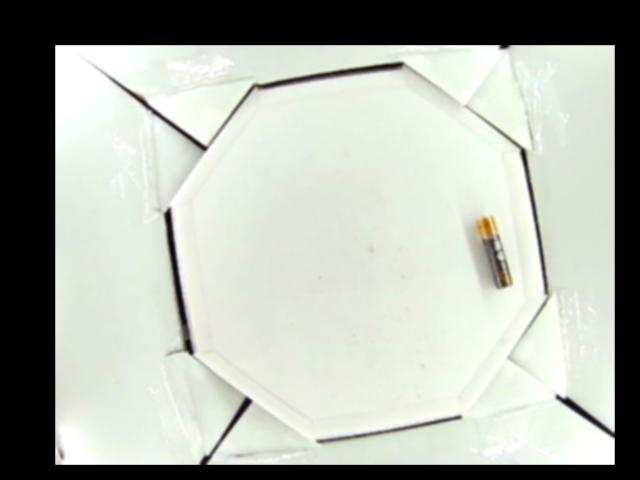Battery: (477, 213, 513, 289)
